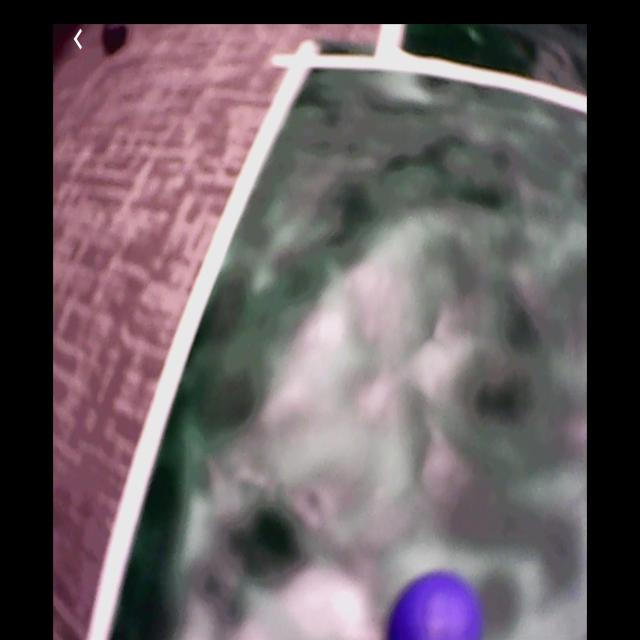ball: (388, 570, 482, 640)
